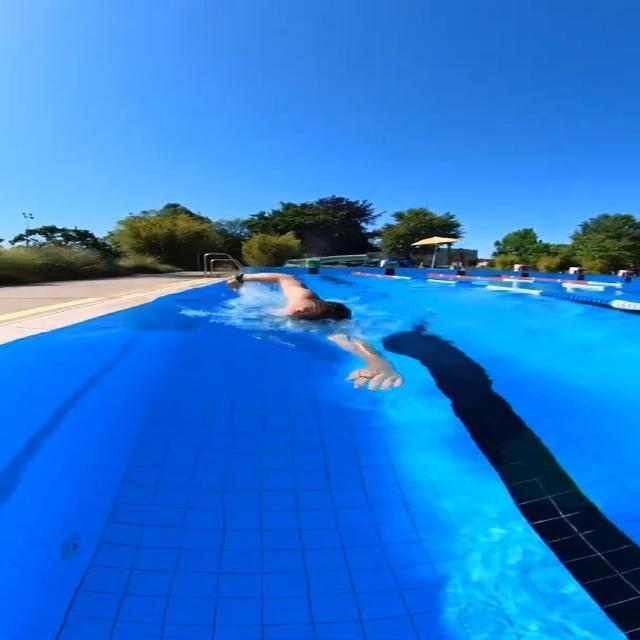Swimming: (227, 269, 403, 391)
